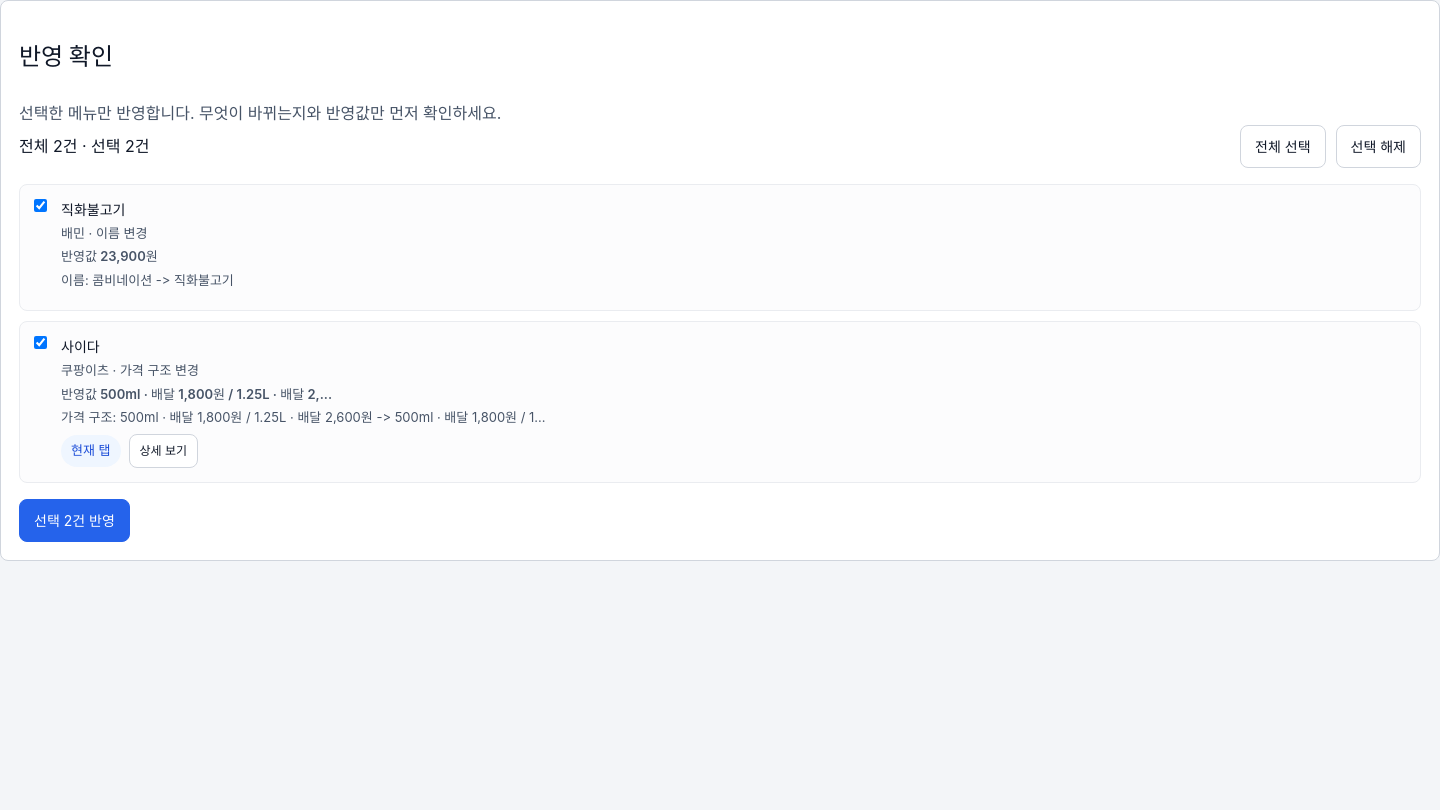
SyncPreviewDialog › renders shared change summaries and runs sync when the operator confirms
Later steps or results of the test are not shown.
Expected: the heading "반영 확인" is shown, [19,42,113,71]
Expected: the text "배민 · 이름 변경" is shown, [61,225,148,241]
Click the button "상세 보기".
click(163, 451)  # box [128,434,198,468]
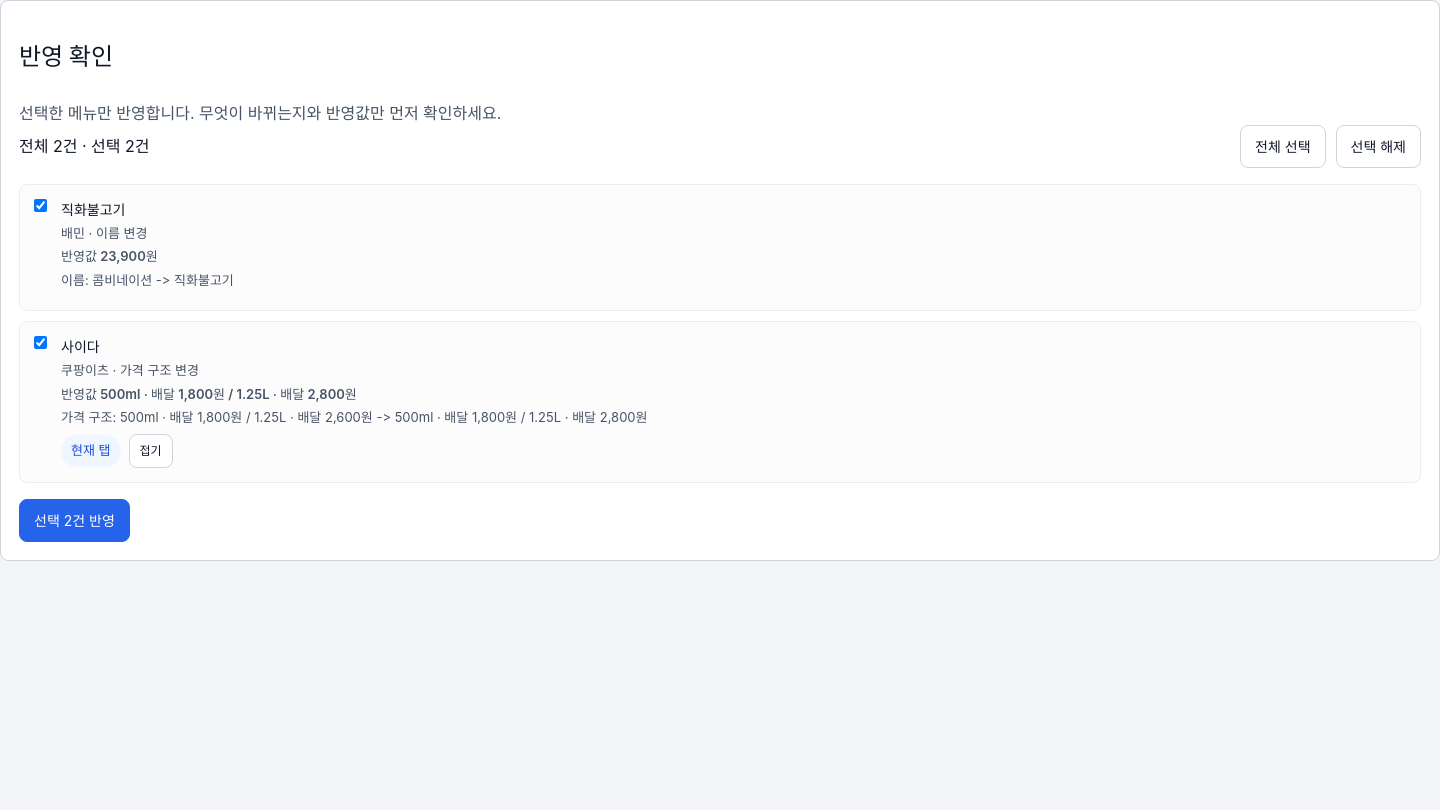
Expected: the text "현재 탭" is shown, [61,435,120,467]
Now the text "가격 구조: 500ml · 배달 1,800원 / 1.25L · 배달 2,600원 -> 500ml · 배달 1,800원 / 1.25L · 배달 2,800원" is shown, box [61,409,648,425]
Now the button "접기" is shown, box [128,434,173,468]
